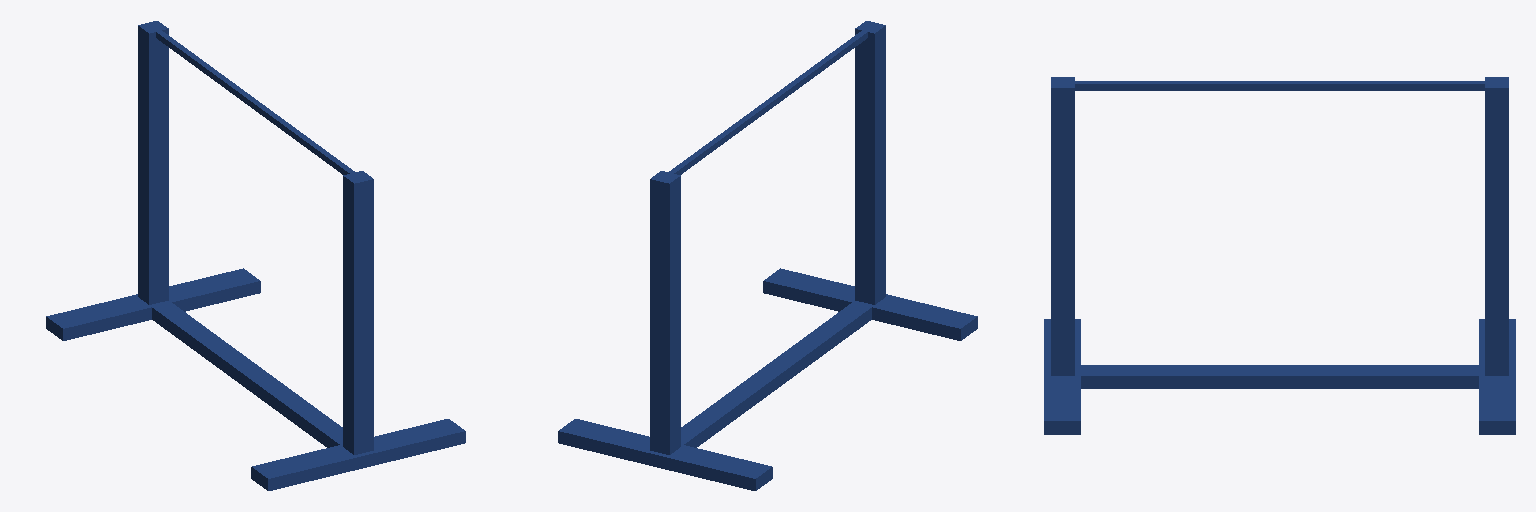
robot.urdf — pipette_crossbar_rack:
<?xml version="1.0"?>
<!-- Generated by make_crossbar_rack.py; edit the parameters there. -->
<robot name="pipette_crossbar_rack">
  <material name="rack"><color rgba="0.20 0.33 0.55 1"/></material>
  <link name="rack">
    <inertial>
      <origin xyz="-0.02 0 0.0778049"/>
      <mass value="3.0"/>
      <inertia ixx="0.108107" ixy="0" ixz="2.40097e-19" iyy="0.028365" iyz="0" izz="0.0862984"/>
    </inertial>
    <visual name="crossbar"><origin xyz="-0.02 0 0.272"/><geometry><box size="0.006 0.34 0.006"/></geometry><material name="rack"/></visual>
    <collision name="crossbar"><origin xyz="-0.02 0 0.272"/><geometry><box size="0.006 0.34 0.006"/></geometry></collision>
    <visual name="bottom_bar"><origin xyz="-0.02 0 0.006"/><geometry><box size="0.02 0.34 0.012"/></geometry><material name="rack"/></visual>
    <collision name="bottom_bar"><origin xyz="-0.02 0 0.006"/><geometry><box size="0.02 0.34 0.012"/></geometry></collision>
    <visual name="foot_left"><origin xyz="-0.02 0.18 0.006"/><geometry><box size="0.2 0.03 0.012"/></geometry><material name="rack"/></visual>
    <collision name="foot_left"><origin xyz="-0.02 0.18 0.006"/><geometry><box size="0.2 0.03 0.012"/></geometry></collision>
    <visual name="upright_left"><origin xyz="-0.02 0.18 0.1435"/><geometry><box size="0.02 0.02 0.263"/></geometry><material name="rack"/></visual>
    <collision name="upright_left"><origin xyz="-0.02 0.18 0.1435"/><geometry><box size="0.02 0.02 0.263"/></geometry></collision>
    <visual name="foot_right"><origin xyz="-0.02 -0.18 0.006"/><geometry><box size="0.2 0.03 0.012"/></geometry><material name="rack"/></visual>
    <collision name="foot_right"><origin xyz="-0.02 -0.18 0.006"/><geometry><box size="0.2 0.03 0.012"/></geometry></collision>
    <visual name="upright_right"><origin xyz="-0.02 -0.18 0.1435"/><geometry><box size="0.02 0.02 0.263"/></geometry><material name="rack"/></visual>
    <collision name="upright_right"><origin xyz="-0.02 -0.18 0.1435"/><geometry><box size="0.02 0.02 0.263"/></geometry></collision>
  </link>
</robot>

--- Facts derived from the render (not from the file) ---
3 views of the same robot in one strip: view 1: azimuth 30°, elevation 25°; view 2: azimuth 150°, elevation 25°; view 3: azimuth 270°, elevation 25° (orthographic).
Robot: pipette_crossbar_rack — 1 links, 0 joints (none); root link rack; default pose: every joint at zero.
Links seen in each view (by area): view 1: rack; view 2: rack; view 3: rack.
Link boxes in pixels (box(x1,y1,x2,y2)): rack: box(46, 21, 465, 490); rack: box(558, 21, 977, 490); rack: box(1044, 77, 1515, 434).
Size in the robot's own frame: 0.2 by 0.39 by 0.275 metres.
Geometry: primitives only (box / cylinder / sphere), no mesh files.
